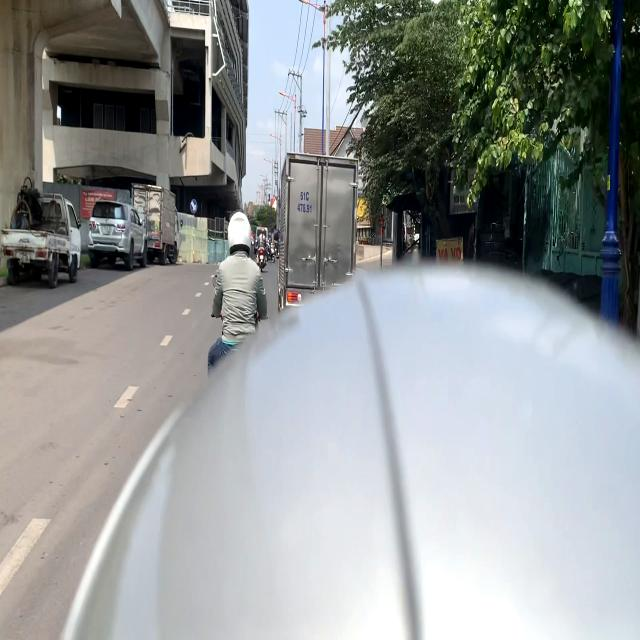R.302a: (190, 199, 198, 214)
